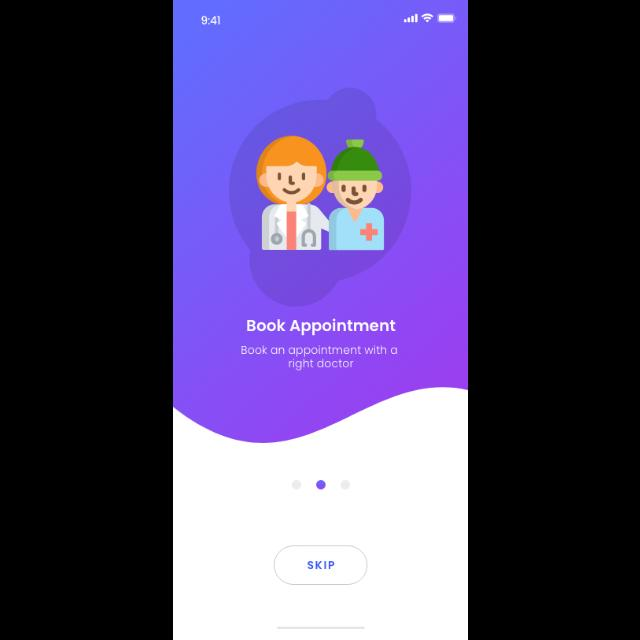image: (256, 136, 384, 250)
pageindicator: (292, 480, 351, 490)
text: (241, 345, 397, 371), (247, 318, 395, 336)
textbutton: (273, 546, 367, 584)
uppertaskbar: (200, 14, 456, 26)
